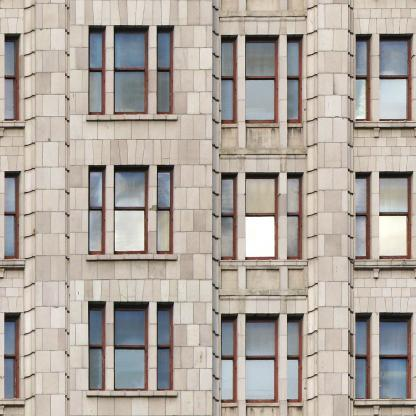Building Outline: (0, 0, 416, 415)
Facade: (0, 1, 416, 416)
Floor: (0, 0, 416, 141), (0, 150, 416, 280), (0, 288, 416, 416)
Floor Slab: (1, 279, 416, 288), (1, 140, 416, 149)
Sill: (219, 260, 308, 266), (86, 390, 177, 395), (86, 254, 177, 259), (354, 399, 416, 406), (354, 121, 416, 127), (354, 261, 416, 267), (86, 115, 177, 119), (0, 121, 25, 128), (0, 260, 25, 267), (0, 399, 25, 404)
Window: (245, 314, 280, 404), (245, 35, 280, 124), (245, 172, 280, 260), (114, 301, 148, 390), (114, 25, 148, 114), (114, 164, 148, 253), (379, 172, 413, 261), (380, 313, 413, 400), (380, 34, 413, 121), (89, 164, 106, 254), (157, 301, 174, 390), (157, 26, 174, 115), (5, 170, 22, 259), (157, 165, 174, 254), (89, 301, 106, 390), (89, 25, 106, 114), (355, 172, 372, 260), (5, 33, 22, 120), (5, 312, 22, 398), (287, 314, 303, 403), (287, 35, 303, 124), (221, 314, 237, 402), (221, 35, 237, 123), (287, 172, 303, 260), (221, 172, 237, 259), (356, 313, 372, 400), (356, 34, 372, 121)
